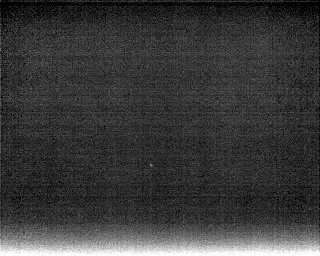BIRD: (148, 160, 156, 170)
